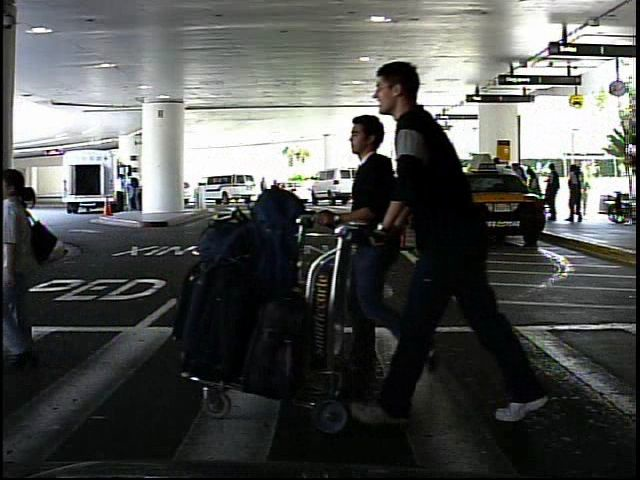person: (381, 47, 539, 425), (329, 115, 412, 389), (579, 171, 599, 219), (114, 172, 127, 212)
